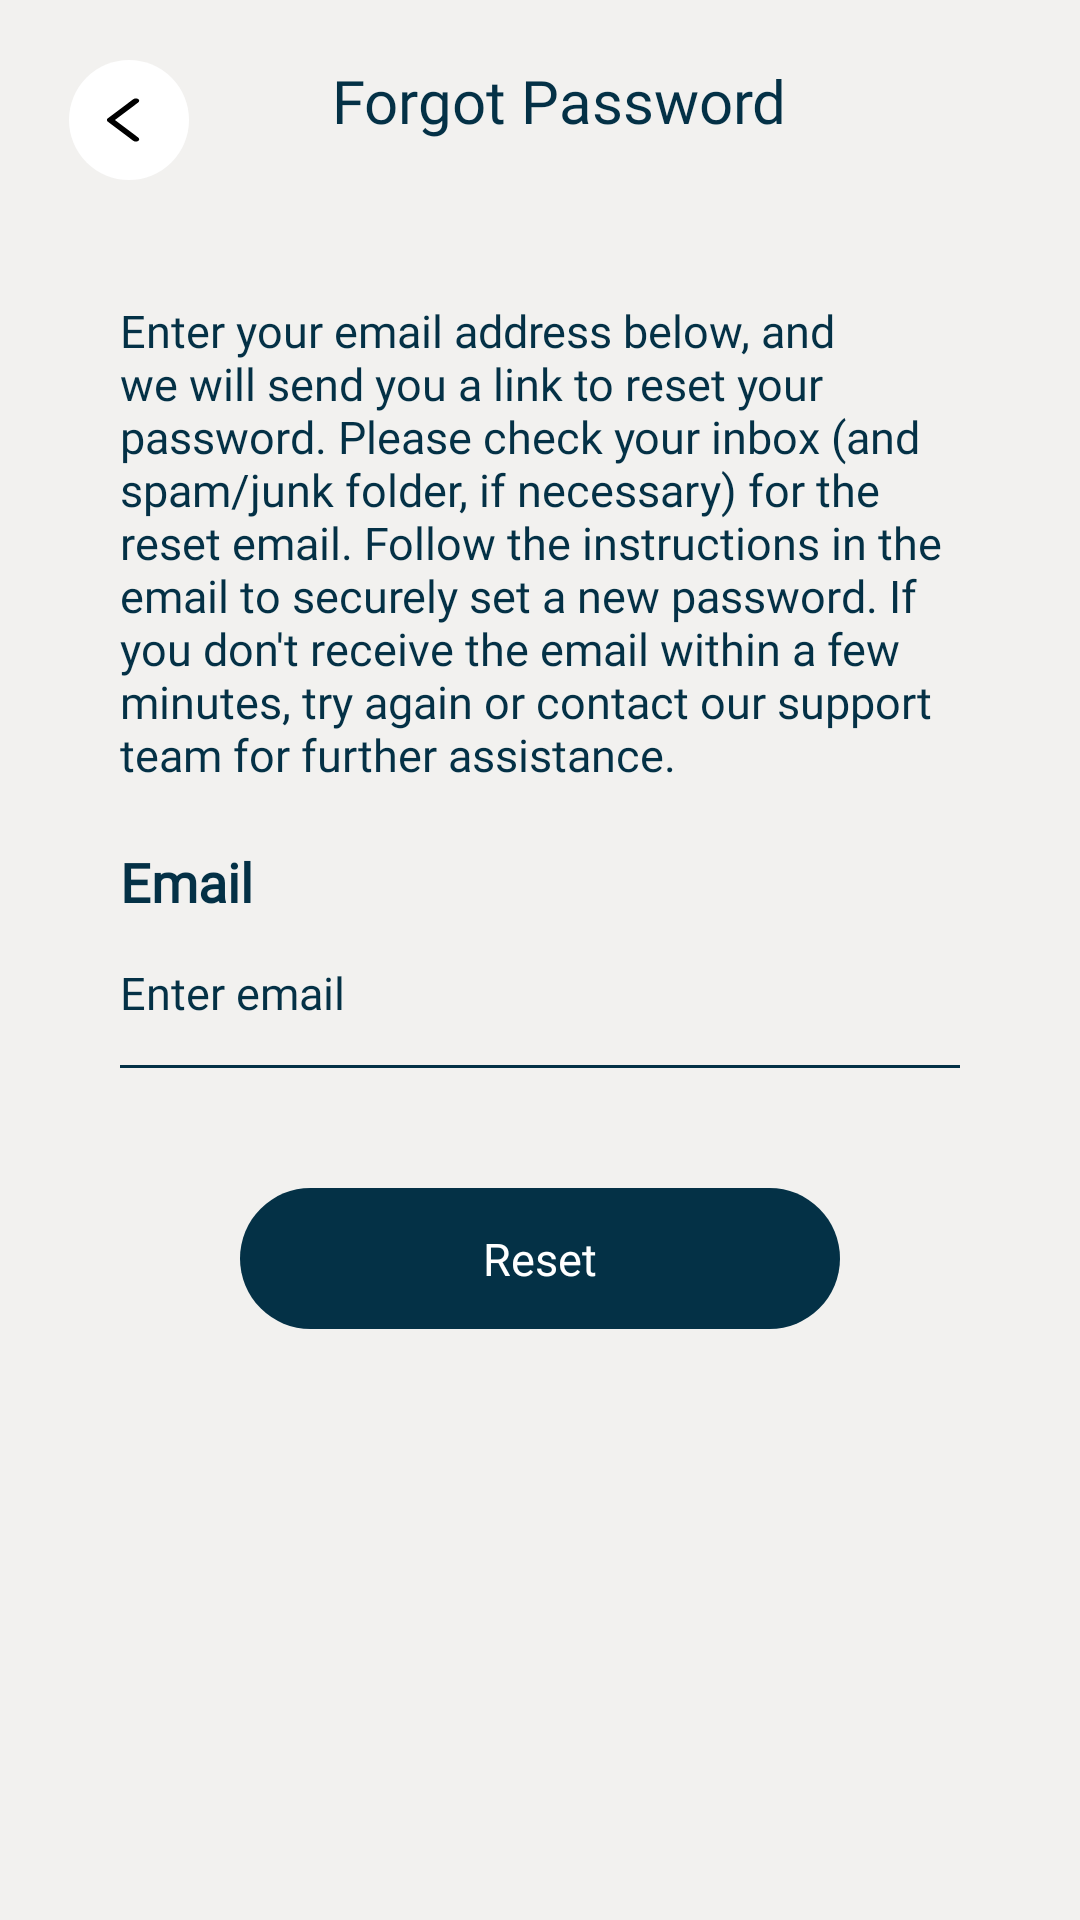

Icons on this 1080px x 1920px Android screen, each with its box as (x1, y1, x2, y2):
back arrow: (107, 98, 140, 142)
